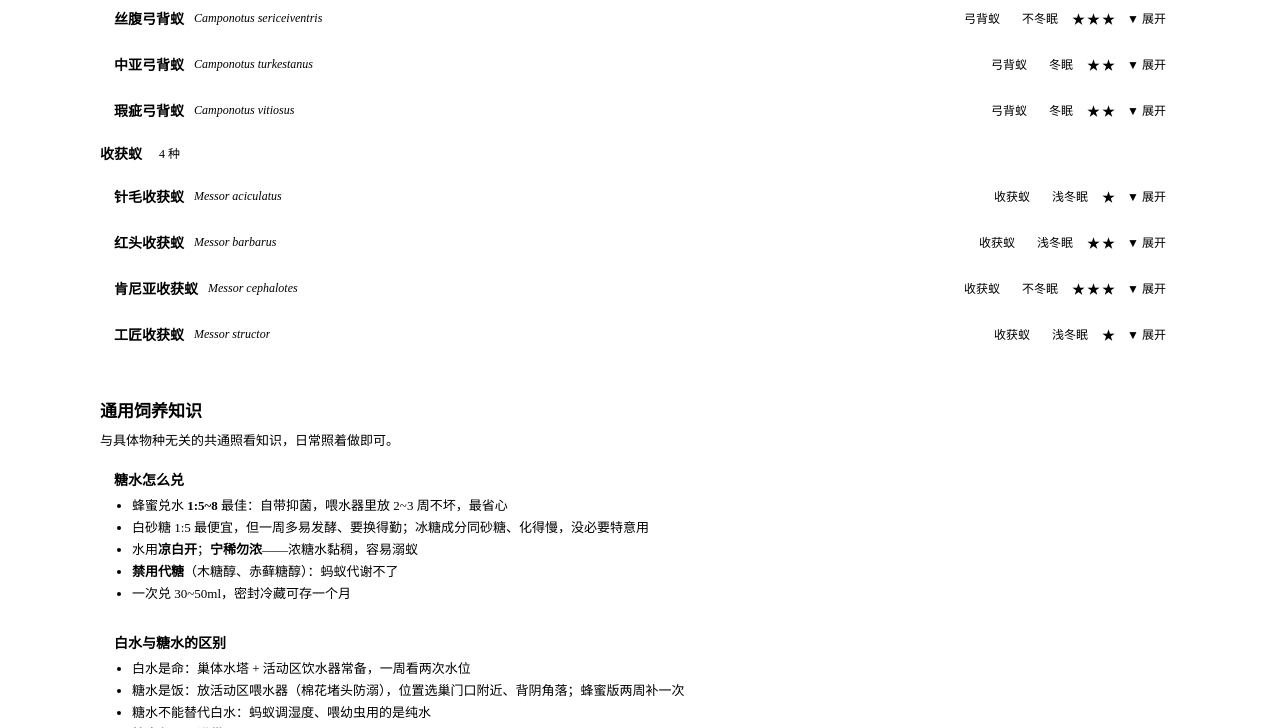
Test: 图鉴页 · 全部物种档案 › 展开后四区块齐备：饲养参数/发展预期/风险敏感度/购买提醒，惊吓分新后/成群两档
This screenshot has width=1280, height=728.
(page scrolled)
Click the button with class "sp-head" that starts with "工匠收获蚁". click: (149, 336)
box: [100,315,1180,353]
(page scrolled)
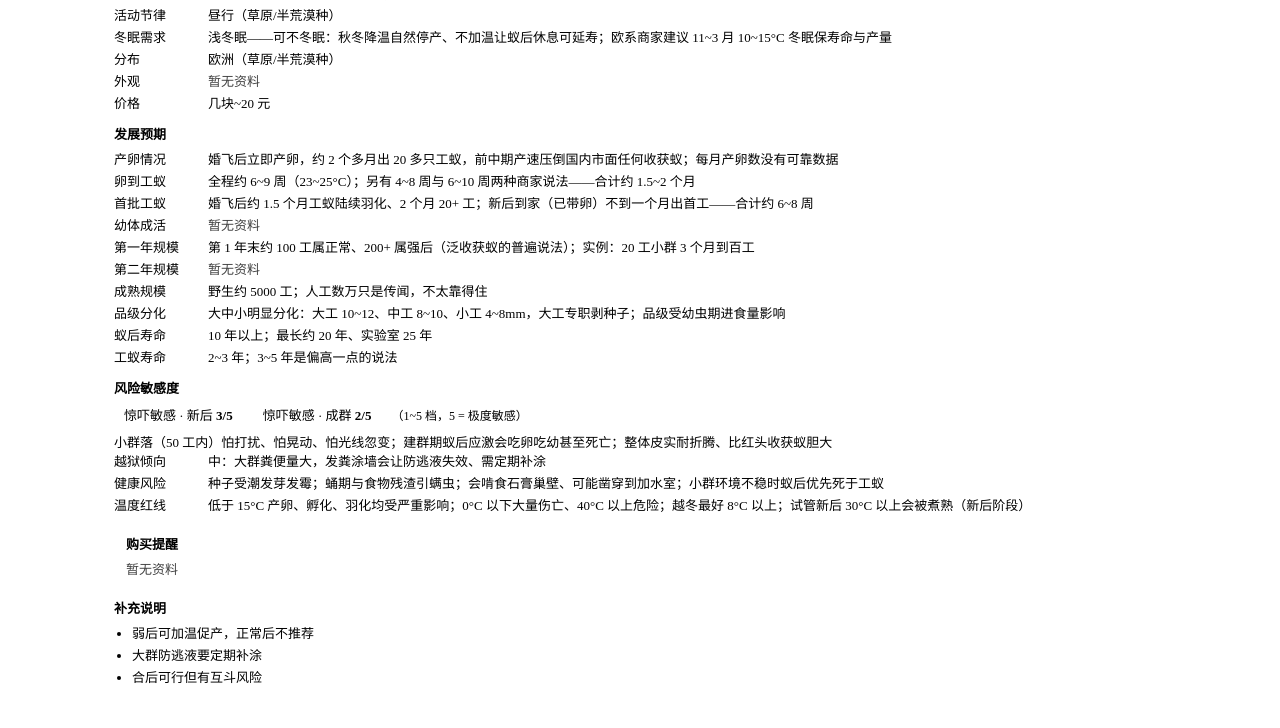
Expected: the element with class "sp-growth" shows "发展预期", [114,127,166,142]
Expected: the element with class "sp-risks" shows "风险敏感度", [114,381,179,396]
Expected: the element with class "buy-warning" shows "购买提醒", [126,537,178,552]
